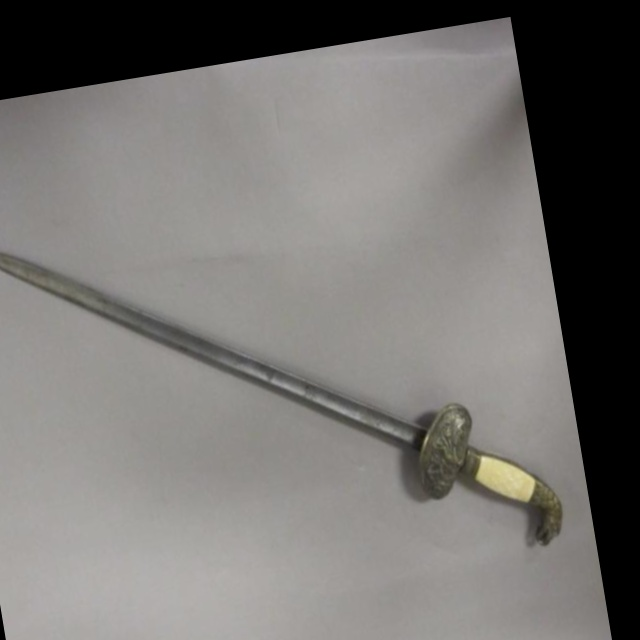Sharp-Object: (0, 105, 549, 633)
